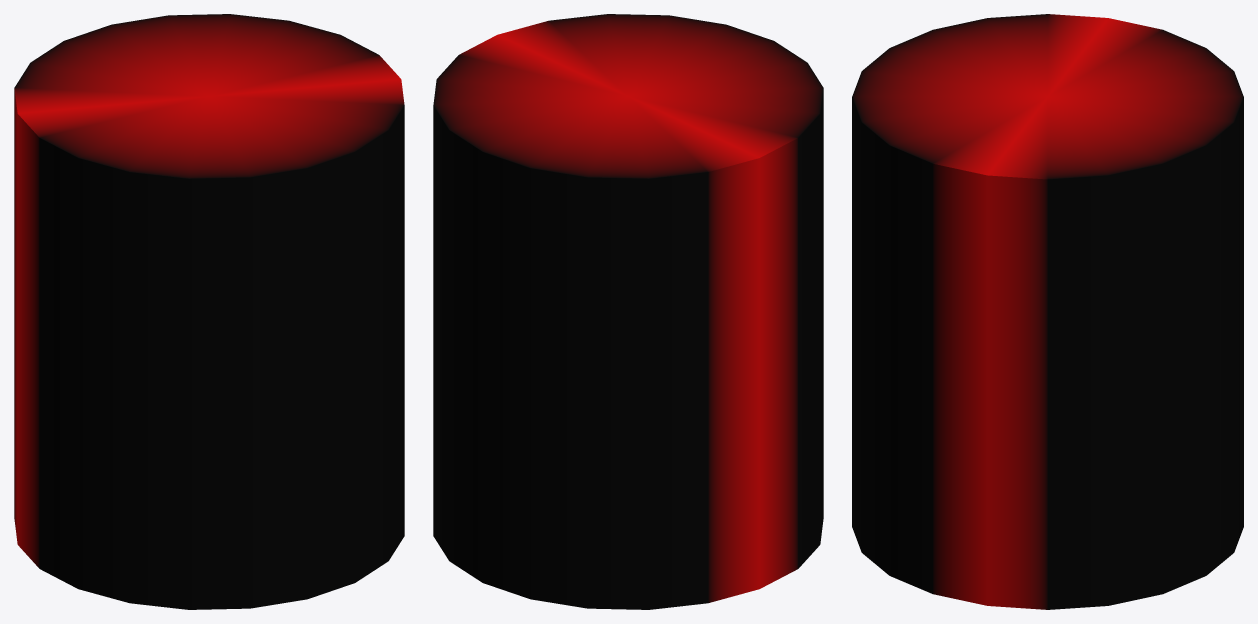
Rendered from testCylinderColored.fbx.
3 views of the same model, side by side, from view 1: azimuth 30°, elevation 25°; view 2: azimuth 150°, elevation 25°; view 3: azimuth 270°, elevation 25° (orthographic).
Visible parts, largest first — view 1: testCylinderColored; view 2: testCylinderColored; view 3: testCylinderColored.
Boxes of the visible parts, x1,y1,x2,y2 form: testCylinderColored: [14, 14, 404, 609]; testCylinderColored: [433, 14, 823, 609]; testCylinderColored: [852, 14, 1243, 609].
Bounding box in the file's own units: 2.06 × 2.5 × 2.06.
